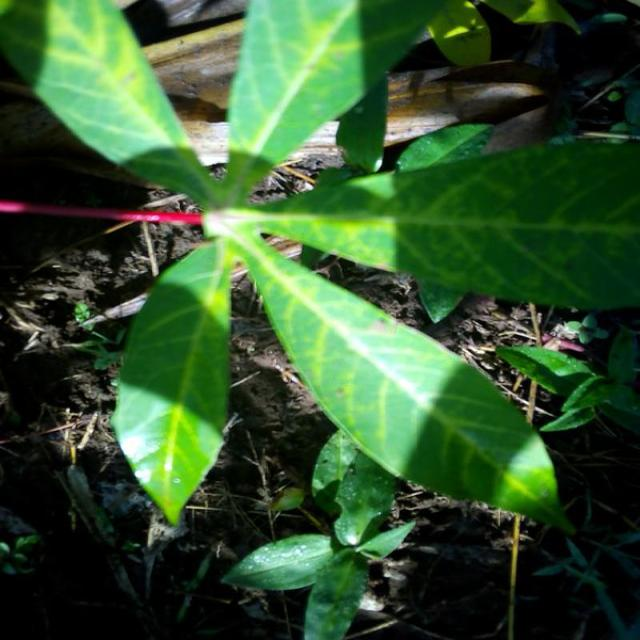cassava leaf: (2, 0, 581, 537), (222, 215, 575, 536), (246, 134, 640, 320), (112, 236, 235, 526)
